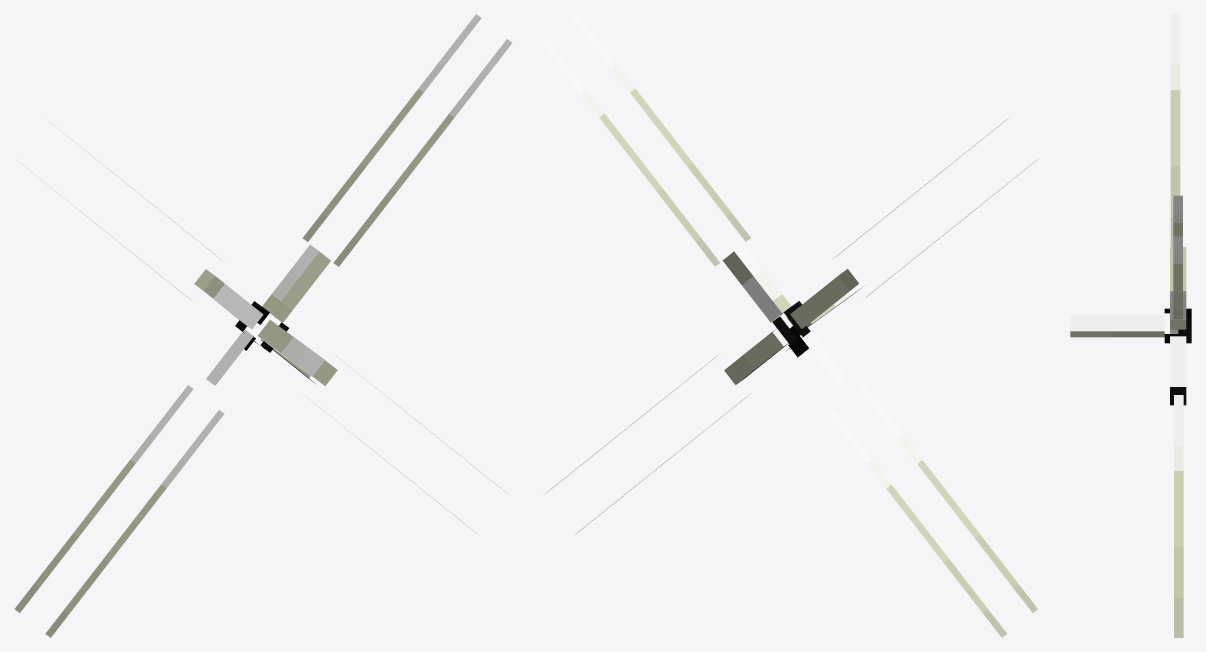
File: mill_blades_item.obj
The picture shows the model from 3 angles, left to right: view 1: azimuth 30°, elevation 25°; view 2: azimuth 150°, elevation 25°; view 3: azimuth 270°, elevation 25°; orthographic projection. The views are drawn at different scales.
Parts seen in each view (by area): view 1: cube; view 2: cube; view 3: cube.
Part boxes in pixels (box(x1,y1,x2,y2)): cube: box(14, 14, 512, 637); cube: box(541, 14, 1037, 637); cube: box(1070, 14, 1191, 637).
Bounding box in the file's own units: 2.26 × 2.27 × 0.5625.
Materials: 1 (1 with a texture image).
